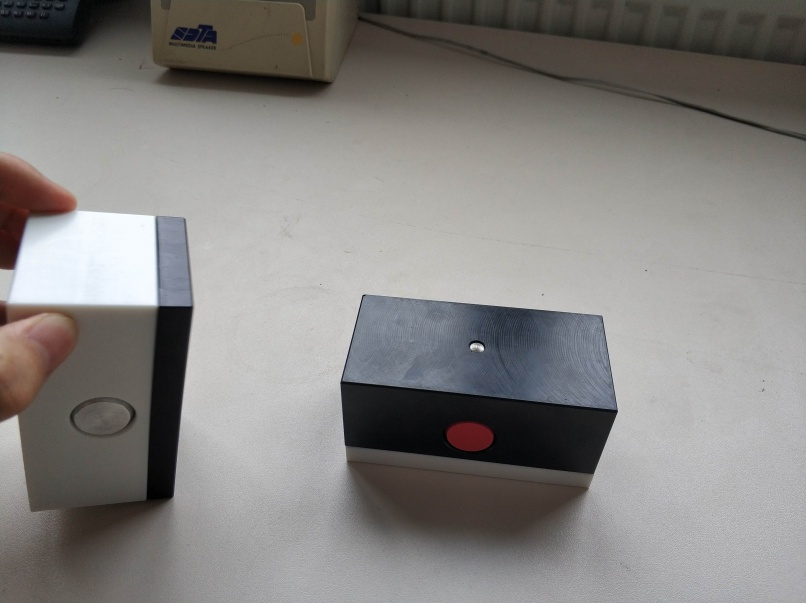black+white+silver: (5, 207, 198, 518)
white+black+red: (338, 289, 619, 494)
